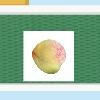half-ripe: (32, 38, 67, 75)
